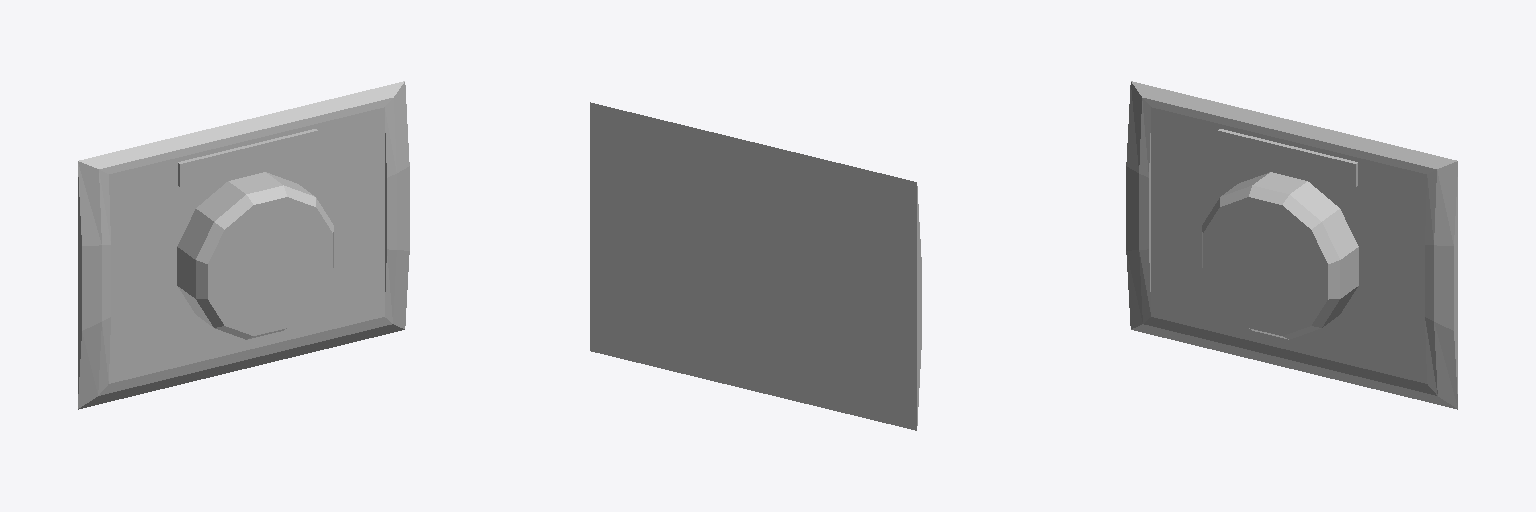
Rendered from obj_interactive_sanalogcontroller.obj.
3 views of the same model, side by side, from view 1: azimuth 30°, elevation 25°; view 2: azimuth 150°, elevation 25°; view 3: azimuth 330°, elevation 25° (orthographic).
Parts seen in each view (by area): view 1: _submesh0_extract3__submesh0_extract3_auv.000; view 2: _submesh0_extract3__submesh0_extract3_auv.000; view 3: _submesh0_extract3__submesh0_extract3_auv.000.
Part boxes in pixels (left/top/right/bottom): _submesh0_extract3__submesh0_extract3_auv.000: left=78, top=81, right=409, bottom=409; _submesh0_extract3__submesh0_extract3_auv.000: left=590, top=102, right=921, bottom=430; _submesh0_extract3__submesh0_extract3_auv.000: left=1126, top=81, right=1457, bottom=409.
Size of the model in its own units: 1 by 0.7256 by 0.1539.